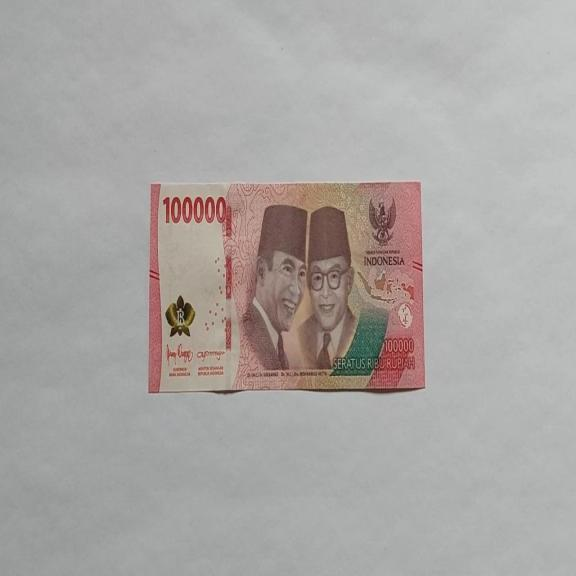Kertas: (148, 180, 425, 394)
